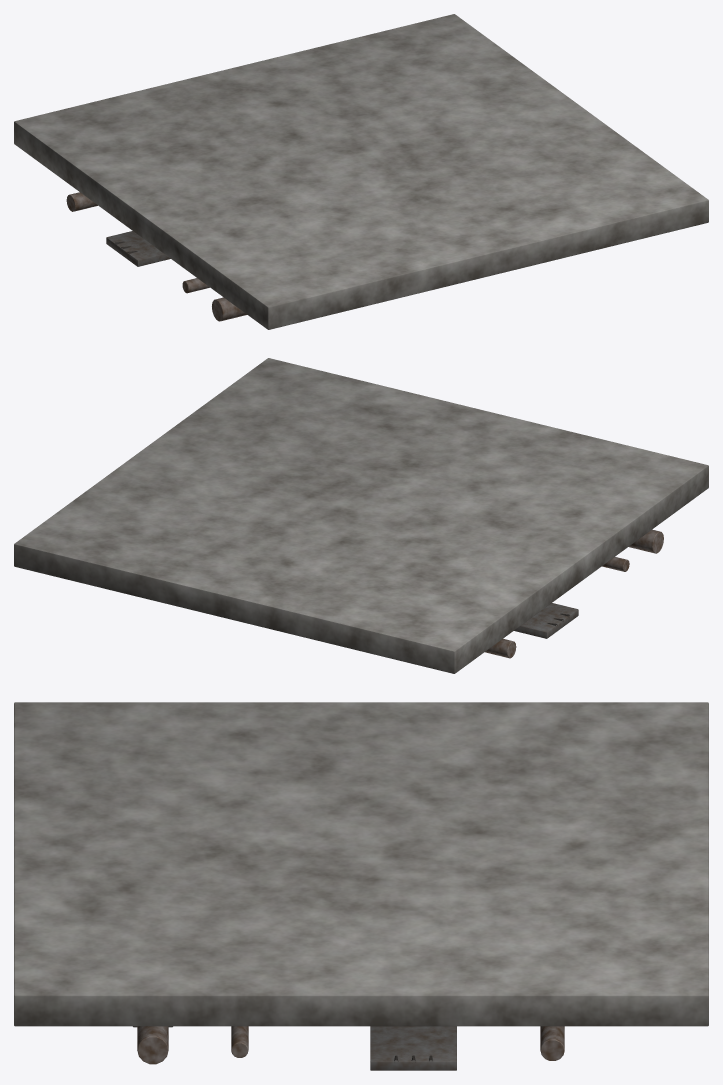
File: g67_pz_ceil_pipes.glb
3 renders of one model, top to bottom at view 1: azimuth 30°, elevation 25°; view 2: azimuth 150°, elevation 25°; view 3: azimuth 270°, elevation 25°, orthographic. The views are drawn at different scales.
Visible parts, largest first — view 1: g67_pz_ceil_pipes; view 2: g67_pz_ceil_pipes; view 3: g67_pz_ceil_pipes.
Part boxes in pixels (x1,y1,x2,y2): g67_pz_ceil_pipes: (14,14,708,329); g67_pz_ceil_pipes: (14,358,708,673); g67_pz_ceil_pipes: (14,702,708,1070).
Bounding box in the file's own units: 4 × 0.6104 × 4.
1 material, 1 textured.
